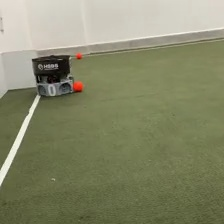ball: (72, 78, 83, 93), (74, 51, 82, 59)
robot: (29, 52, 75, 98)
